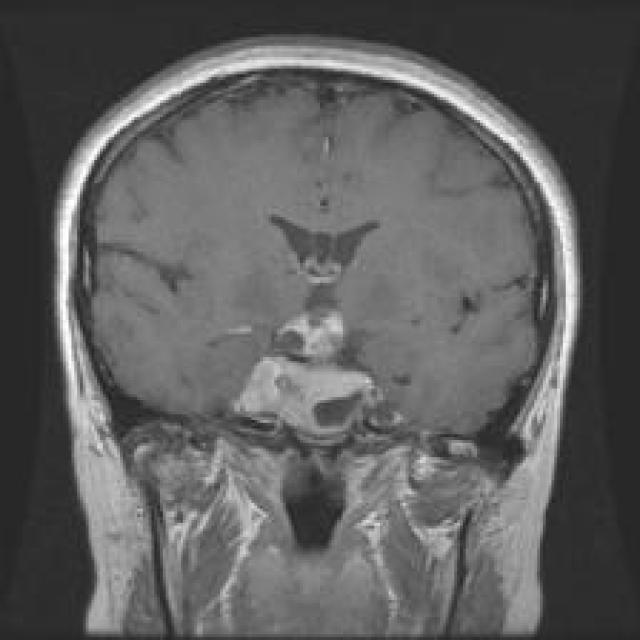pituitary_tumor: (212, 278, 398, 448)
